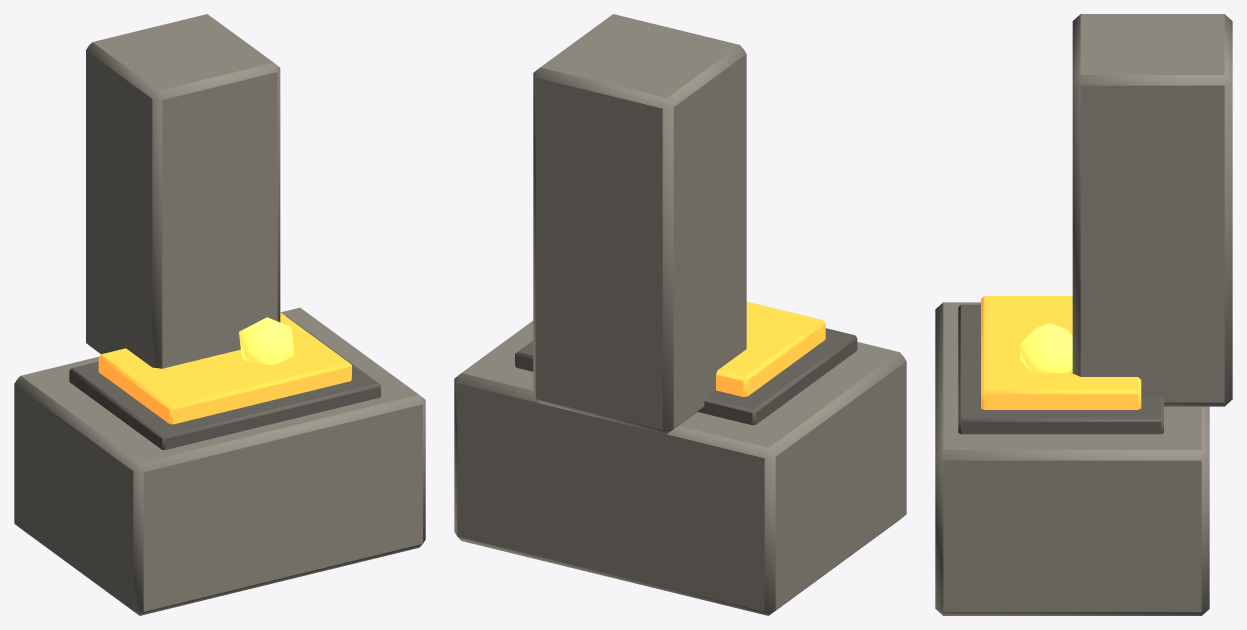
The model's file is forge.glb.
3 views of the same model, side by side, from view 1: azimuth 30°, elevation 25°; view 2: azimuth 150°, elevation 25°; view 3: azimuth 270°, elevation 25° (orthographic). The views are drawn at different scales.
Visible parts, largest first — view 1: building, fire; view 2: building, fire; view 3: building, fire.
Part boxes in pixels (<box>): building: <box>14,14,425,615</box>; fire: <box>98,312,351,424</box>; building: <box>454,14,906,615</box>; fire: <box>716,301,825,396</box>; building: <box>935,14,1232,615</box>; fire: <box>981,296,1141,409</box>.
Size of the model in its own units: 1.6 by 2.4 by 1.3.
